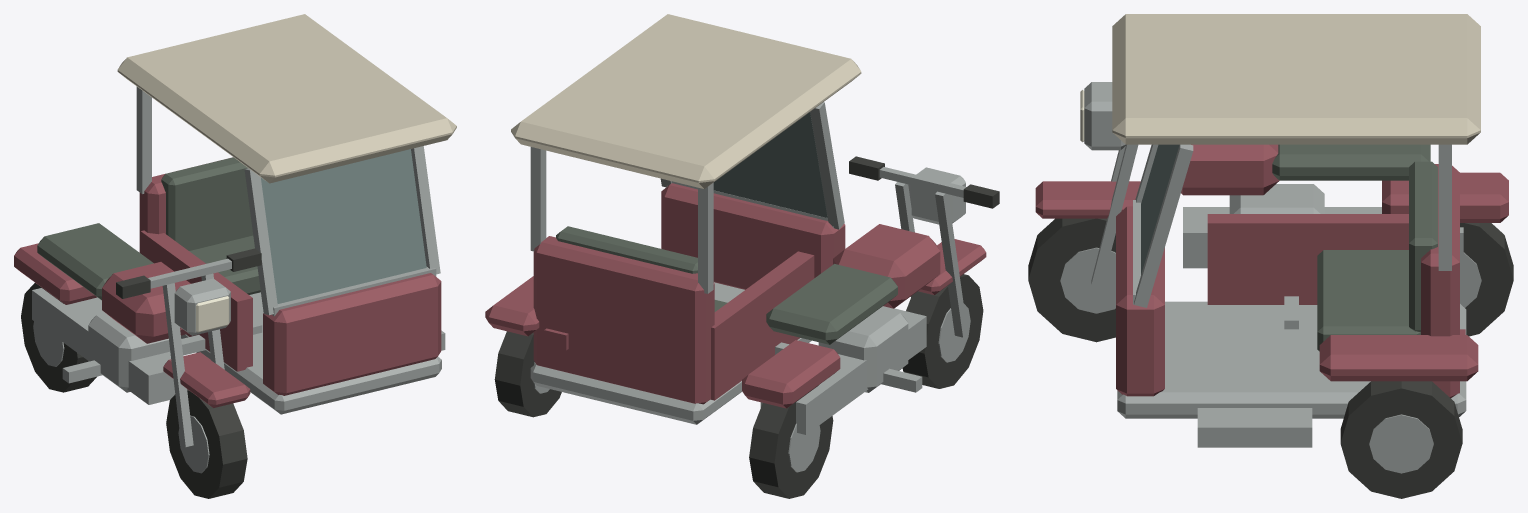
Rendered from bayan-passenger-tricycle.glb.
3 views of the same model, side by side, from view 1: azimuth 30°, elevation 25°; view 2: azimuth 150°, elevation 25°; view 3: azimuth 270°, elevation 25° (orthographic). The views are drawn at different scales.
Parts seen in each view (by area): view 1: bayan-passenger-tricycle; view 2: bayan-passenger-tricycle; view 3: bayan-passenger-tricycle.
Part boxes in pixels (box(x1,y1,x2,y2)): bayan-passenger-tricycle: box(14, 14, 456, 498); bayan-passenger-tricycle: box(485, 14, 999, 498); bayan-passenger-tricycle: box(1028, 14, 1513, 498).
Size of the model in its own units: 2.03 by 1.65 by 1.99.
